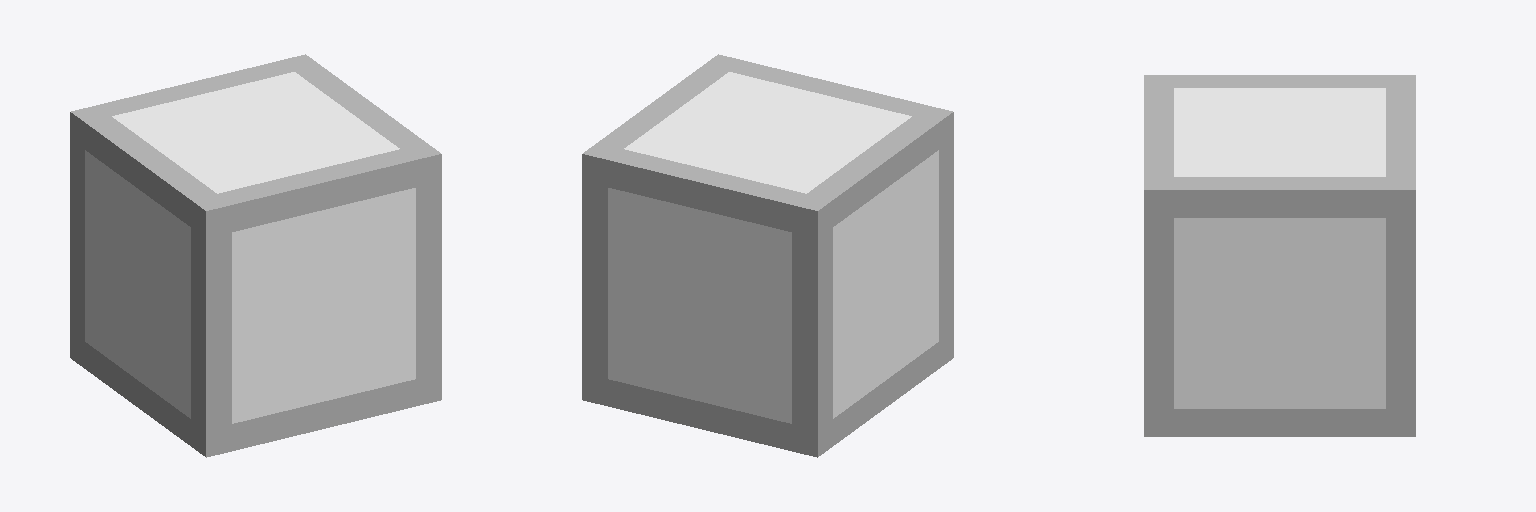
3 views of the same model, side by side, from view 1: azimuth 30°, elevation 25°; view 2: azimuth 150°, elevation 25°; view 3: azimuth 270°, elevation 25° (orthographic).
Visible parts, largest first — view 1: object 1; view 2: object 1; view 3: object 1.
Boxes of the visible parts, x1,y1,x2,y2 form: object 1: [70, 54, 441, 457]; object 1: [582, 54, 953, 457]; object 1: [1144, 75, 1415, 436].
Size of the model in its own units: 0.9 by 0.9 by 0.9.
Materials: 1 (1 with a texture image).